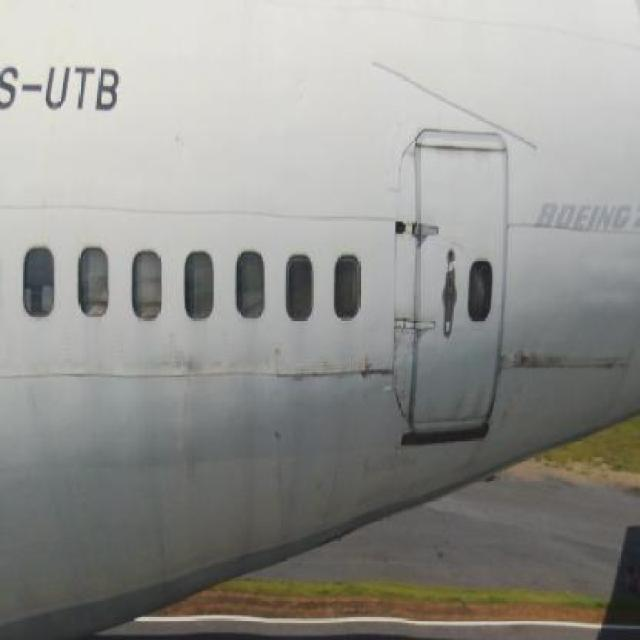Rust: (446, 385, 489, 426), (514, 352, 572, 373), (590, 352, 630, 374)
Scartch: (361, 452, 432, 481), (170, 353, 218, 387), (358, 360, 394, 392)
